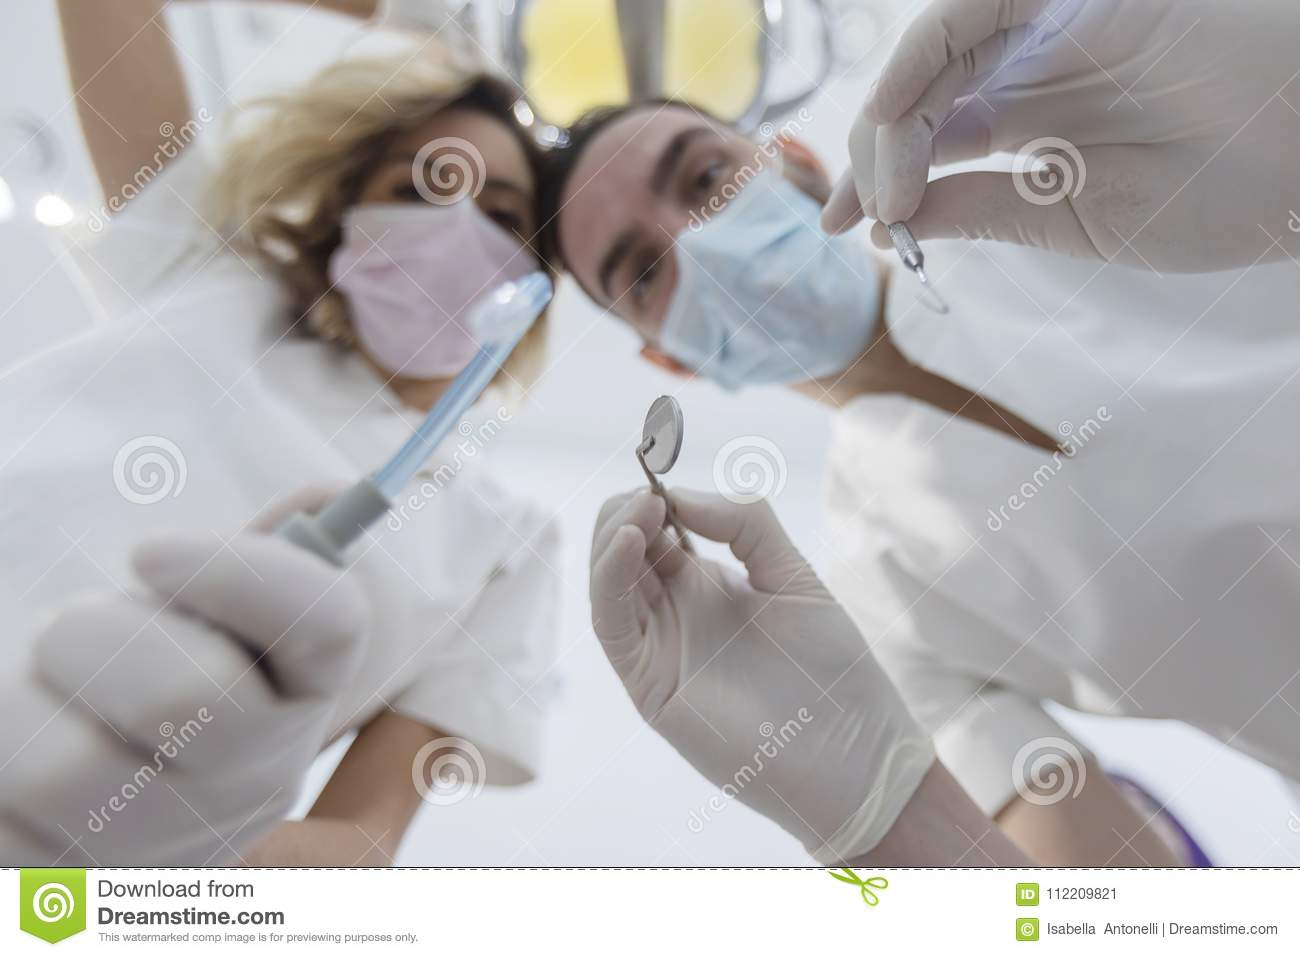mask: (669, 175, 872, 391), (339, 194, 532, 388)
